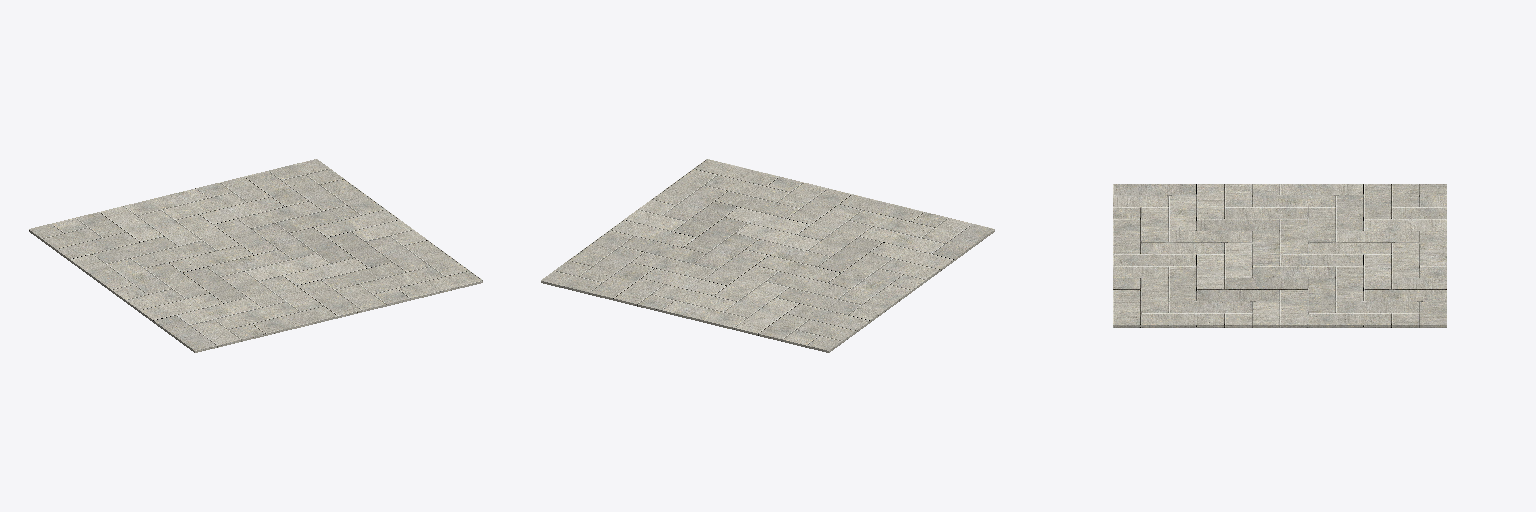
3 views of the same model, side by side, from view 1: azimuth 30°, elevation 25°; view 2: azimuth 150°, elevation 25°; view 3: azimuth 270°, elevation 25° (orthographic).
Parts seen in each view (by area): view 1: Cube_Cube.001; view 2: Cube_Cube.001; view 3: Cube_Cube.001.
Boxes of the visible parts, x1,y1,x2,y2 form: Cube_Cube.001: [29, 159, 482, 352]; Cube_Cube.001: [541, 159, 994, 352]; Cube_Cube.001: [1113, 184, 1446, 327].
Bounding box in the file's own units: 2 × 0.0148 × 2.
1 materials, 1 textured.